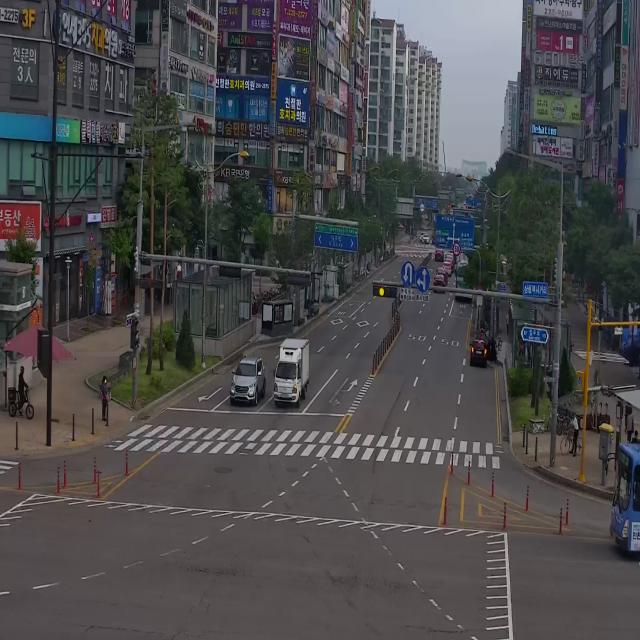Bus: (605, 428, 640, 566), (455, 258, 474, 303)
Car: (230, 355, 266, 405), (470, 332, 488, 367), (432, 273, 446, 296), (437, 266, 448, 282), (434, 246, 444, 262), (443, 261, 451, 278)
Truck: (274, 336, 309, 407)
